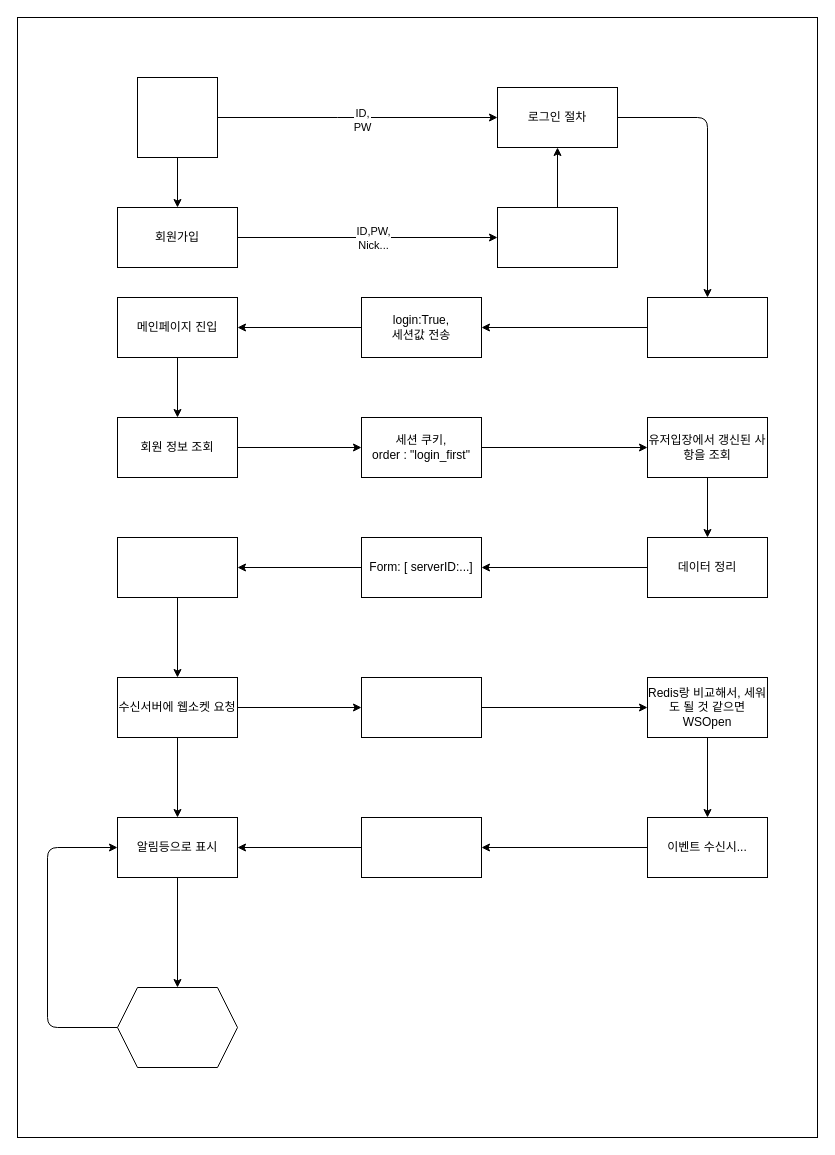
Image size: 835x1155. Some labels were removed from this diagram. The shapes that lost their labels are listed below. From the top down, each one's centre as x and y in pixels, then its label:
At (177,117): "로그인 페이지".
At (557,237): "회원 정보 등록".
At (707,327): "확인 후, 페이지 이동".
At (177,567): "새로운 채팅 내용이 있는지 디스플레이".
At (421,707): "세션쿠키, PC정보등".
At (421,847): "서버ID, 채팅 내용".
At (177,1027): "설정창".
